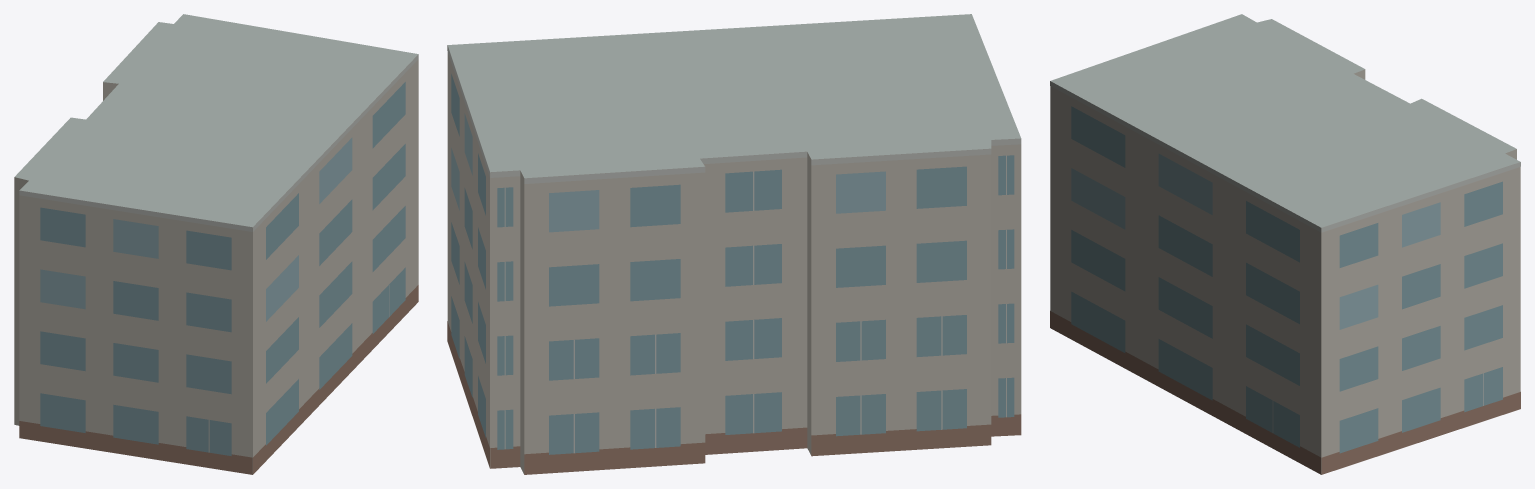
The model's file is survey-upis-33014072.glb.
3 views of the same model, side by side, from view 1: azimuth 30°, elevation 25°; view 2: azimuth 150°, elevation 25°; view 3: azimuth 270°, elevation 25° (orthographic). The views are drawn at different scales.
Visible parts, largest first — view 1: survey-upis-33014072.tmp; view 2: survey-upis-33014072.tmp; view 3: survey-upis-33014072.tmp.
Part boxes in pixels (box(x1,y1,x2,y2)): survey-upis-33014072.tmp: box(14, 14, 418, 474); survey-upis-33014072.tmp: box(447, 14, 1021, 474); survey-upis-33014072.tmp: box(1050, 14, 1520, 474).
Bounding box in the file's own units: 23.03 × 12.4 × 21.42.
